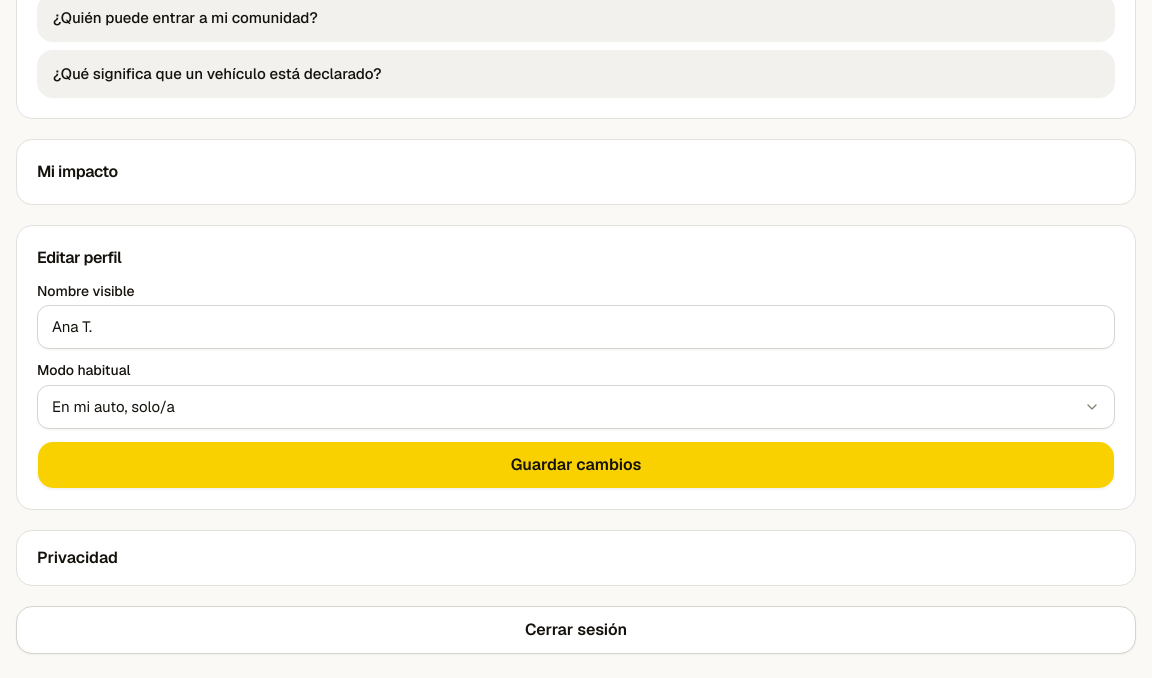
perfil: editar perfil (US-035) › saves the alias and the usual mode without asking for consent again
(page scrolled)
Replace the text in the field labelled "Nombre visible" with "Anita" at (576, 327), box [37,305,1115,349]
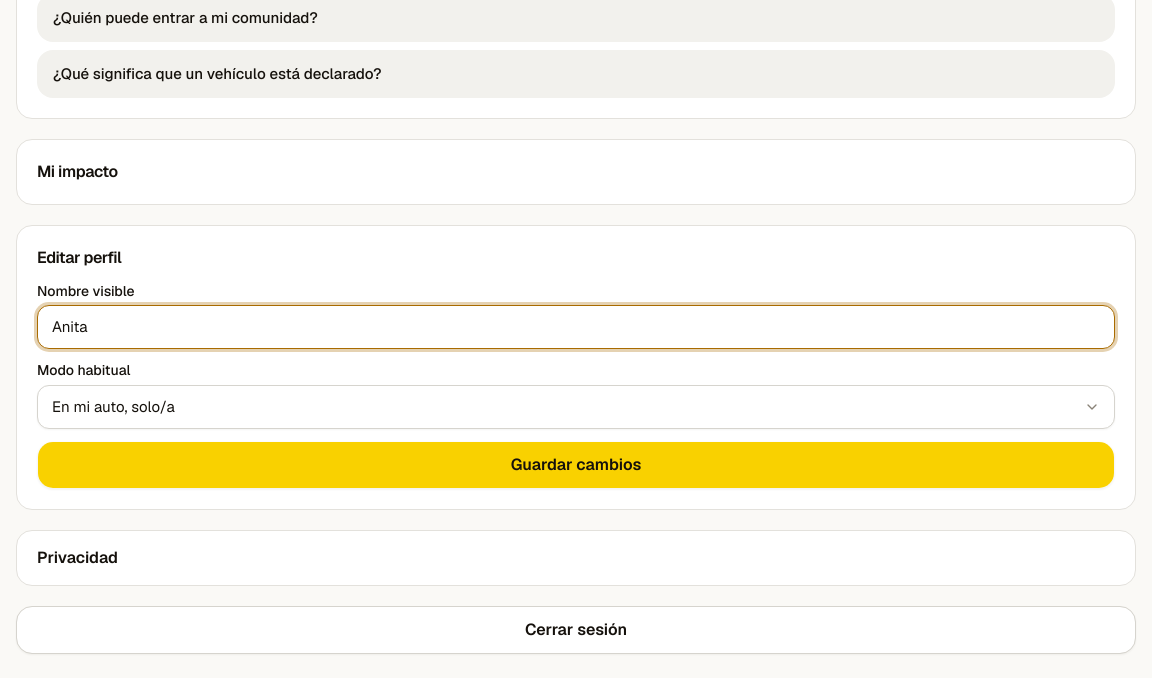
Select "En transporte público (bus, corredor, tren, Metropolitano, colectivo)" in the dropdown labelled "Modo habitual" at (576, 406), box [37,384,1115,428]
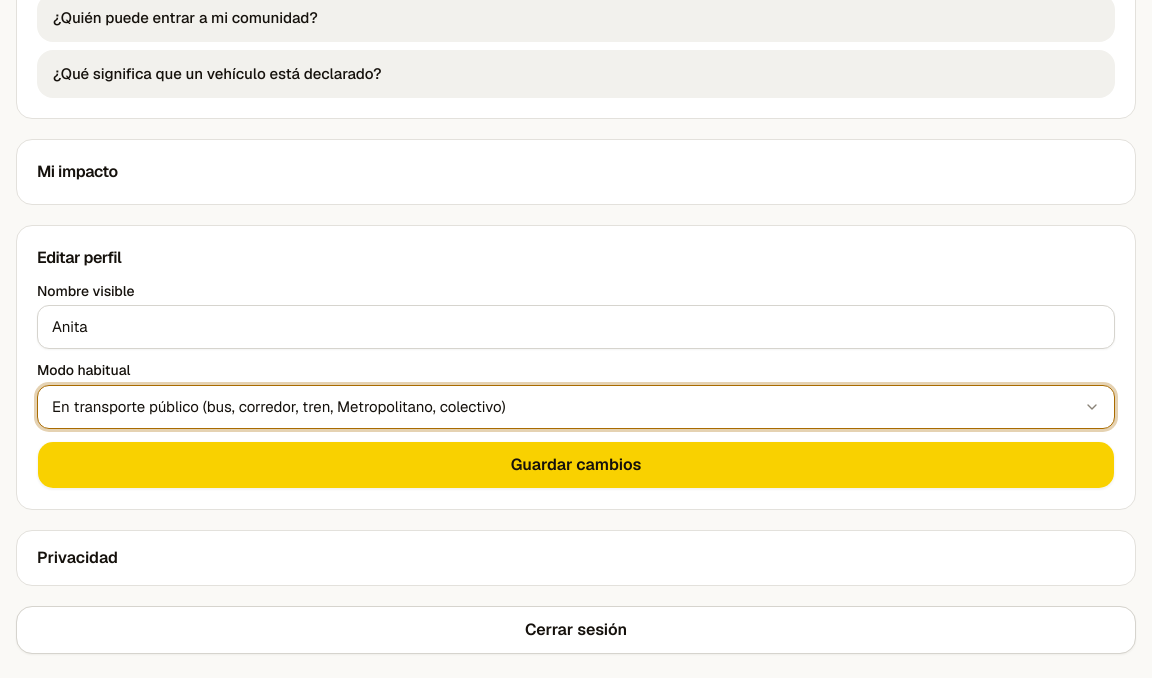
Click the button "Guardar cambios".
click(576, 464)  # box [37,440,1115,488]
(page scrolled)
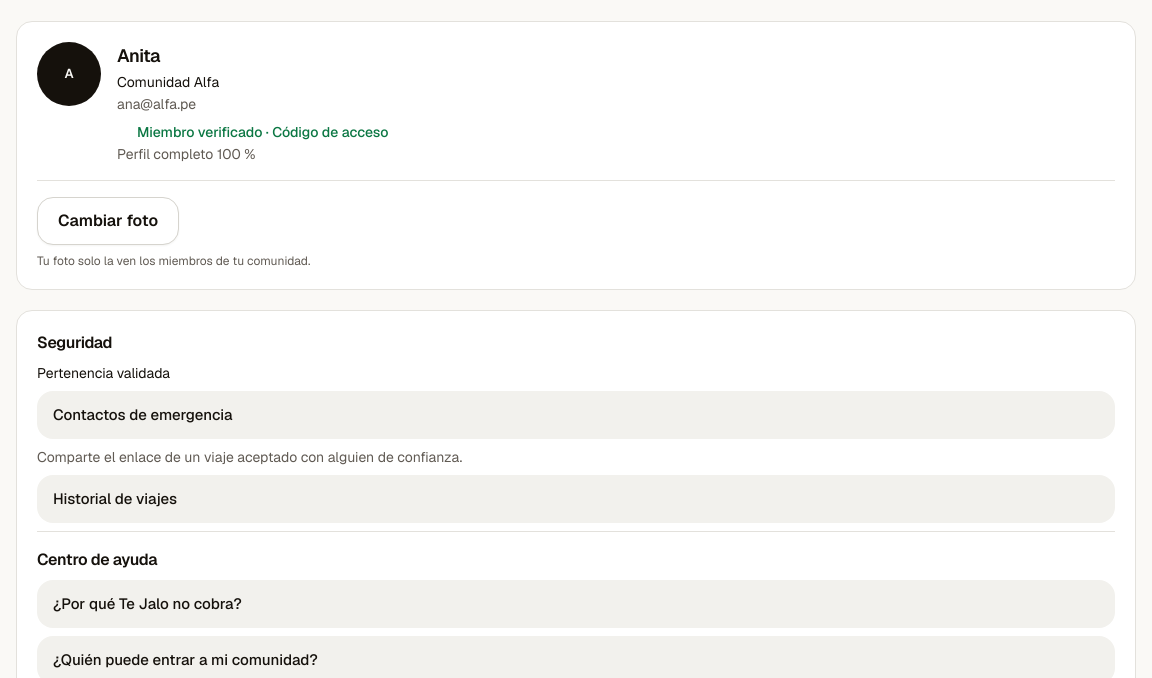
Now the text "Anita" is shown, box [117,44,160,67]
